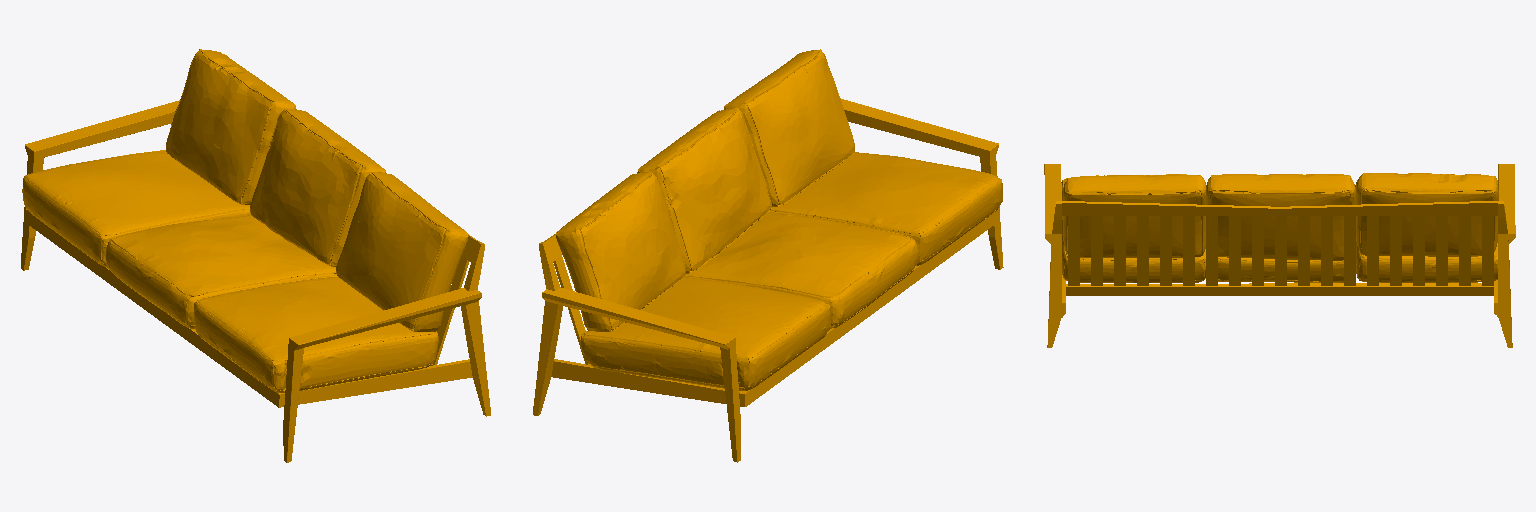
robot.urdf — object:
<?xml version="1.0"?>
<robot name="object">
  <link name="object">
    <visual>
      <origin xyz="0 0 -0.04" rpy="0 0 -1.57"/>
      <geometry>
        <mesh filename="mesh/couch_tex.obj"/>
      </geometry>
    </visual>
    <collision>
      <origin xyz="0 0 0"/>
      <geometry>
        <mesh filename="mesh/couch_lowpoly.obj"/>
      </geometry>
    </collision>
     <inertial>
      <mass value="0.5"/>
      <inertia ixx="0.2" ixy="0.0" ixz="0.0" iyy="0.2" iyz="0.0" izz="0.2"/>
    </inertial>
  </link>
</robot>

--- What the picture shows (computed from the rendered views, not written in the file) ---
3 views of the same robot in one strip: view 1: azimuth 30°, elevation 25°; view 2: azimuth 150°, elevation 25°; view 3: azimuth 270°, elevation 25° (orthographic).
Robot: object — 1 links, 0 joints (none); root link object; default pose: all joints at 0.
Visible links, largest first — view 1: object; view 2: object; view 3: object.
Link boxes in pixels (x1,y1,x2,y2): object: [21, 49, 490, 462]; object: [533, 49, 1003, 462]; object: [1044, 164, 1515, 347].
Size in the robot's own frame: 0.4581 by 1.02 by 0.3857 metres.
Meshes: 1 distinct files referenced, 1 mesh visuals loaded (1 OBJ).